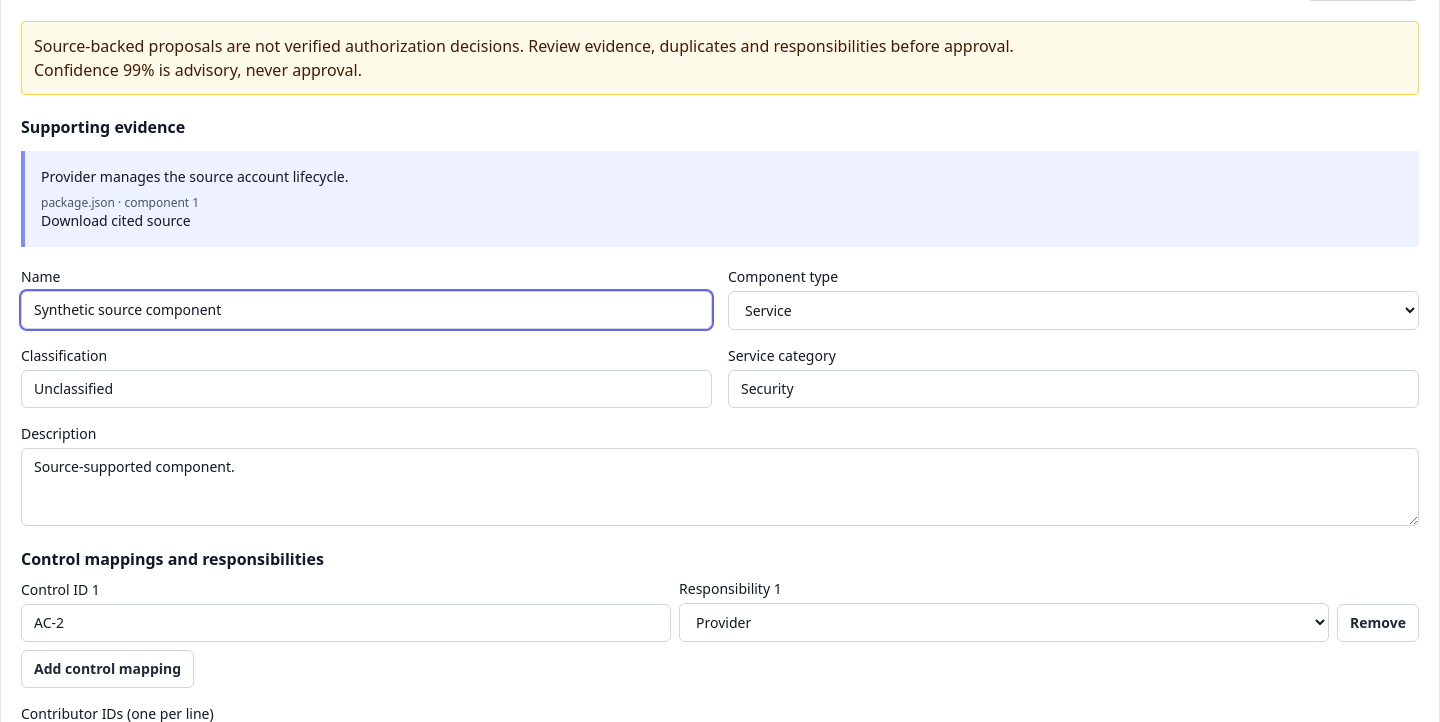
Test: source-backed candidate review › rejects duplicate control identifiers instead of silently overwriting duties
The image size is (1440, 722).
Click the button "Add control mapping" at (108, 669), box [21, 650, 194, 688]
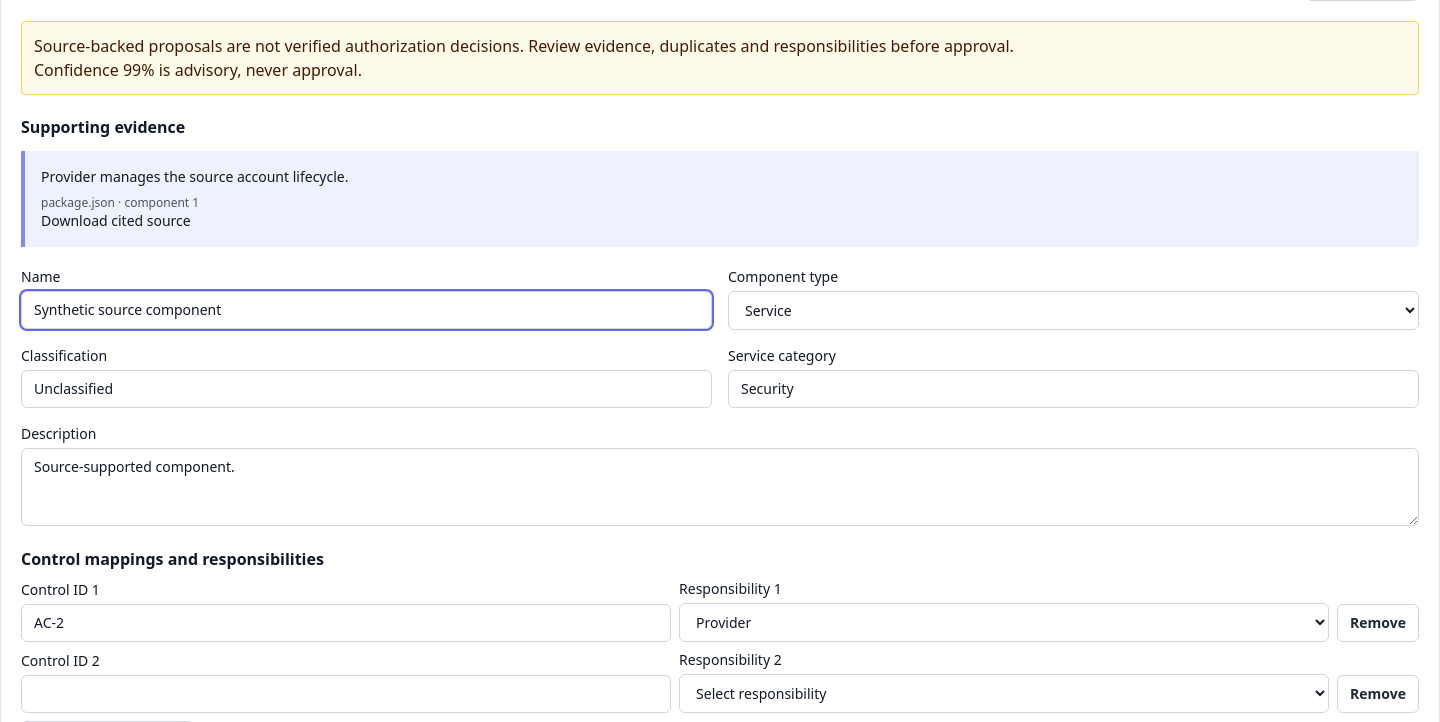
Type "ac-2" into the field labelled "Control ID 2" at (346, 694), box [21, 675, 671, 713]
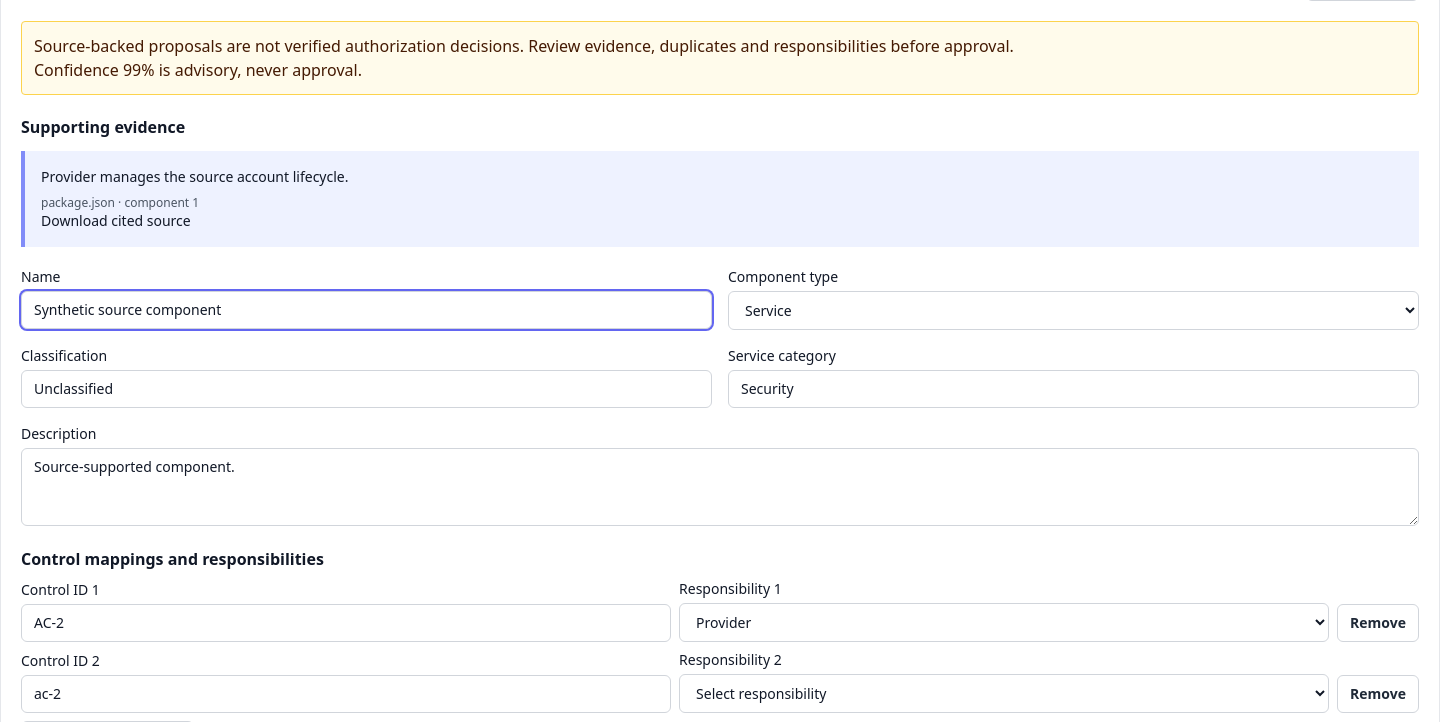
Select "Shared" in the dropdown labelled "Responsibility 2" at (1004, 694), box [679, 674, 1329, 713]
(page scrolled)
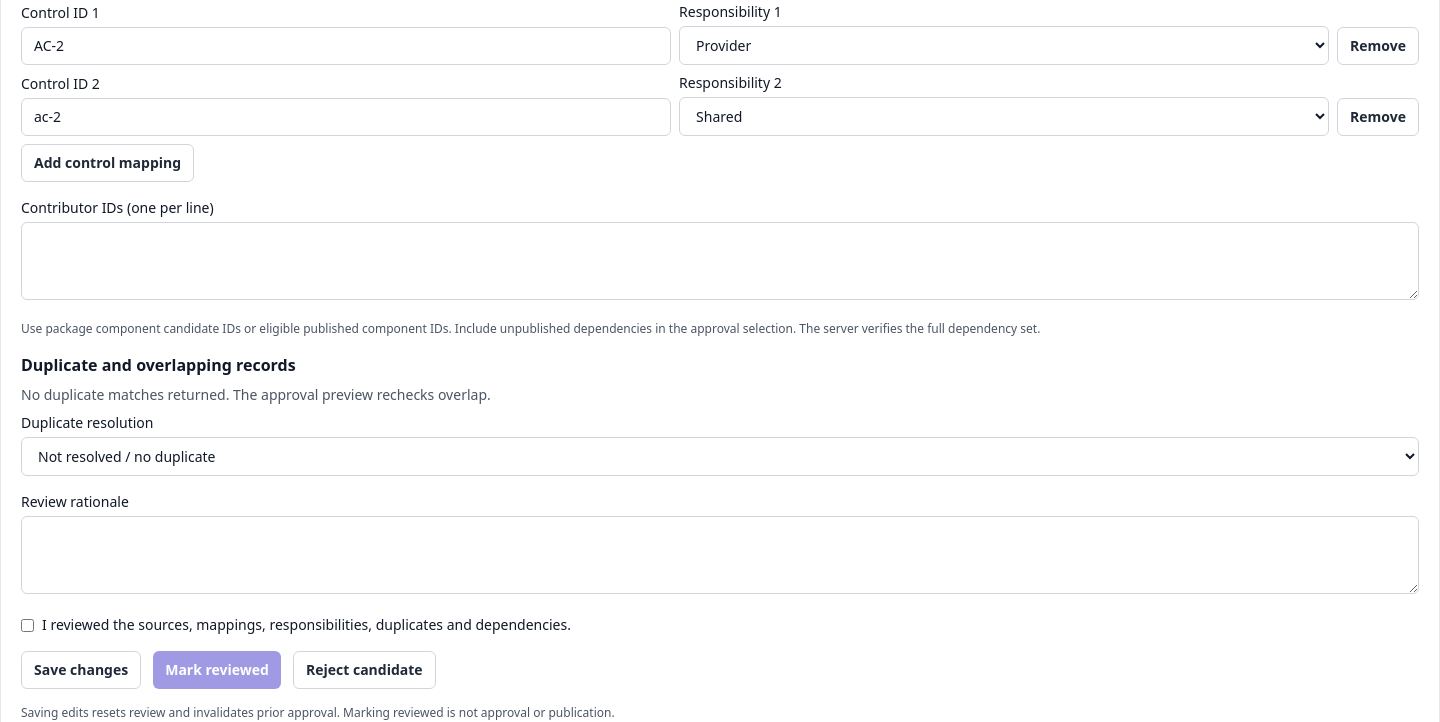
Click the button "Save changes" at (81, 670), box [21, 651, 141, 689]
(page scrolled)
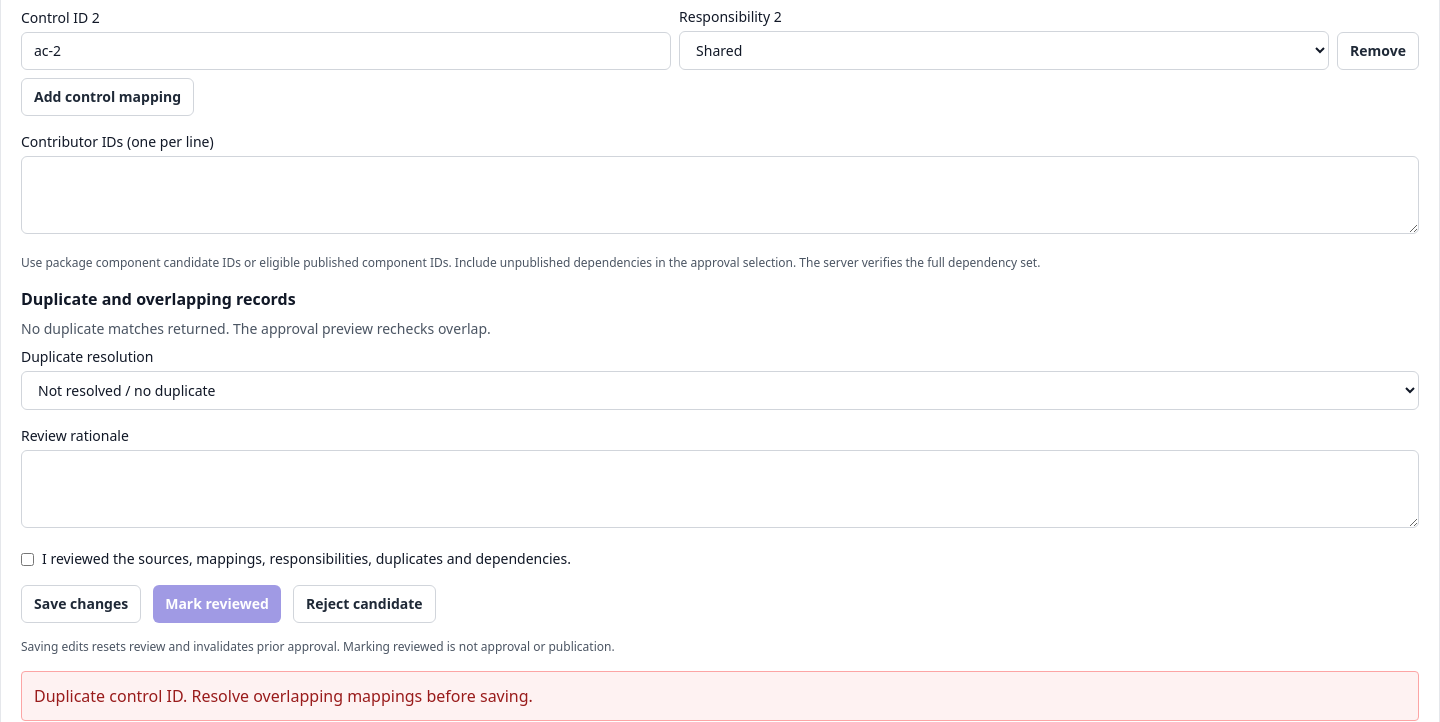
Check: the message shows "Duplicate control ID", box [34, 685, 533, 707]
